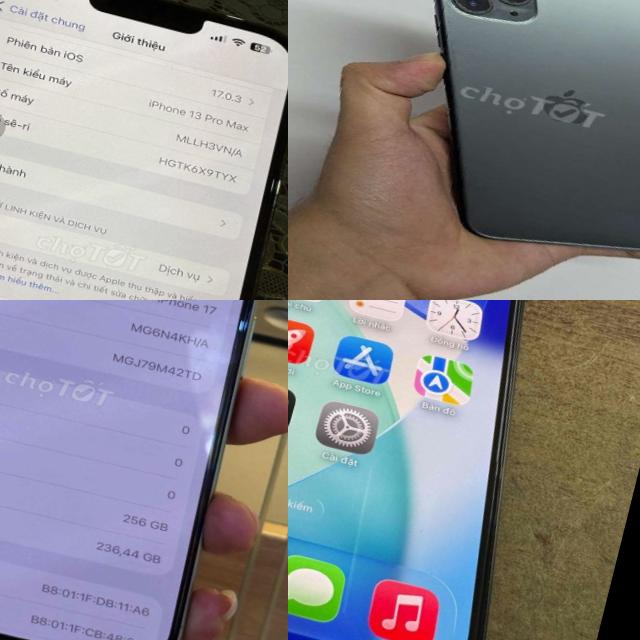gen_11: (433, 0, 640, 250)
gen_12_13: (0, 0, 288, 300)
gen_15: (288, 300, 627, 640)
gen_17: (0, 300, 288, 640)
